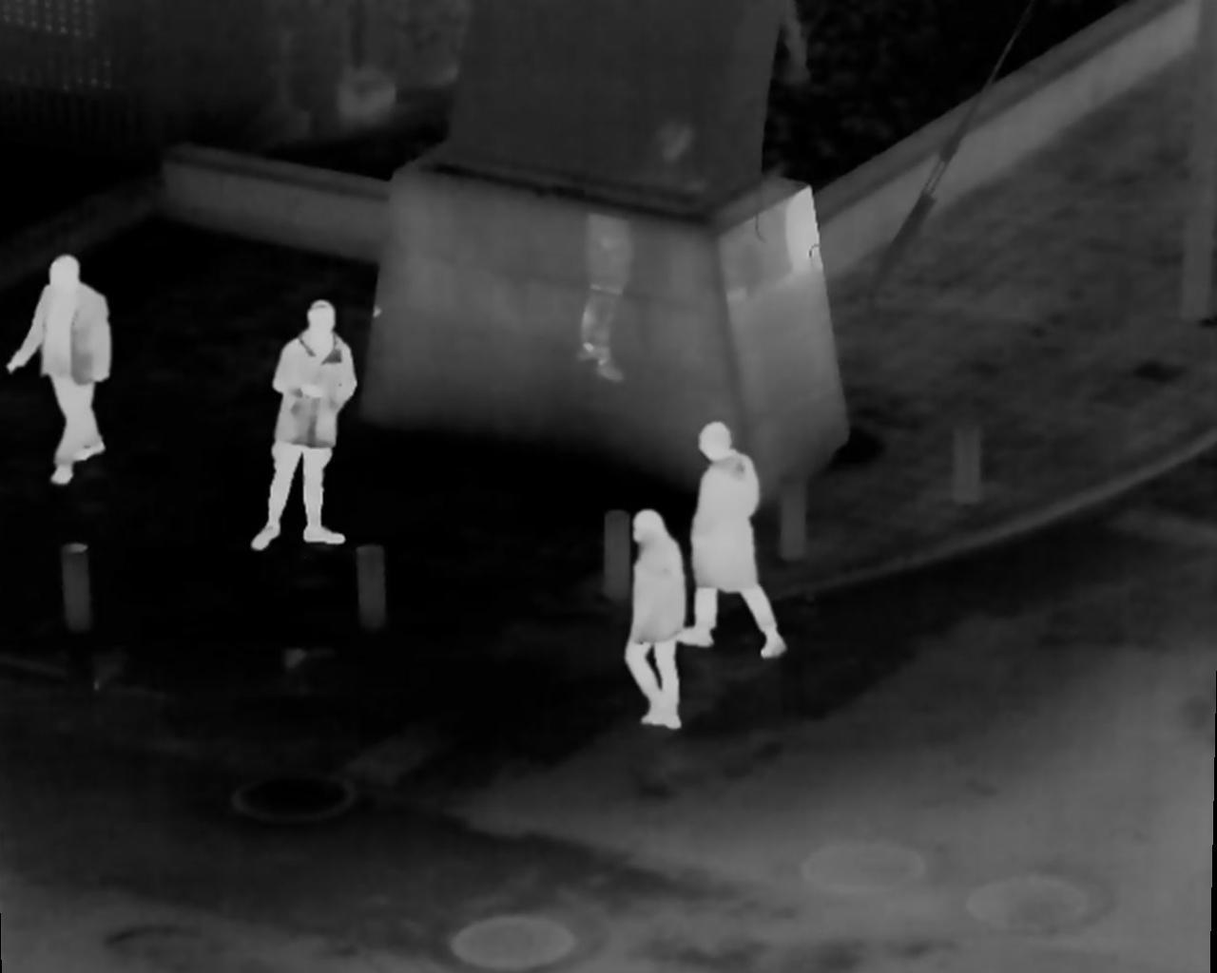person: (258, 304, 362, 558), (682, 421, 789, 652), (13, 254, 112, 476), (619, 512, 686, 721)
